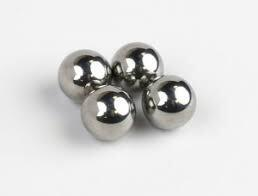steelball: (78, 83, 136, 142), (140, 74, 198, 133)
